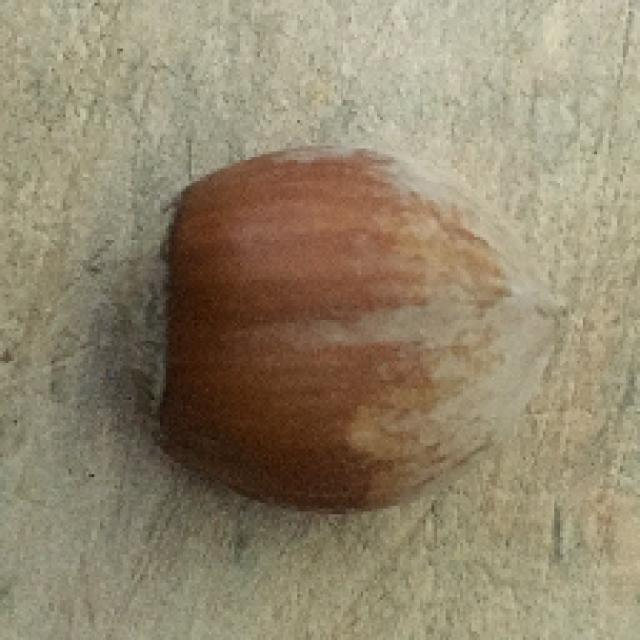qualityHazelnut: (124, 143, 549, 510)
